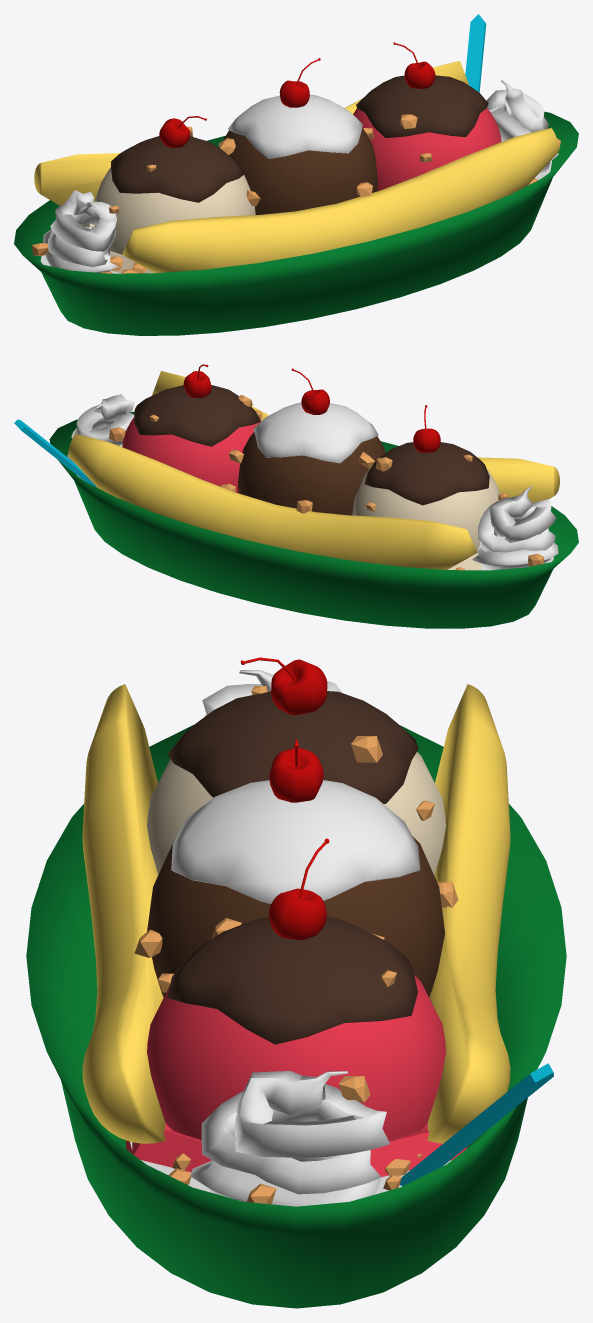
File: Banana Split.fbx
3 renders of one model, top to bottom at view 1: azimuth 30°, elevation 25°; view 2: azimuth 150°, elevation 25°; view 3: azimuth 270°, elevation 25°, orthographic. The views are drawn at different scales.
Visible parts, largest first — view 1: Bowl, Cylinder, Icosphere, Icosphere.006, Icosphere.004, Icosphere.005, Icosphere.002, Icosphere.001, Whipped Cream.001, Whipped Cream, Nut, spoon (+3 smaller); view 2: Bowl, Cylinder, Icosphere, Icosphere.004, Icosphere.006, Icosphere.005, Whipped Cream.001, Icosphere.001, Icosphere.002, Whipped Cream, Nut, spoon (+3 smaller); view 3: Bowl, Cylinder, Icosphere.001, Icosphere.004, Icosphere.005, Whipped Cream, Icosphere.006, Icosphere, Icosphere.002, Nut, Torus.001, spoon (+4 smaller).
Part boxes in pixels (box(x1,y1,x2,y2)): Bowl: box(14, 111, 578, 335); Cylinder: box(34, 61, 558, 273); Icosphere: box(223, 128, 377, 214); Icosphere.006: box(111, 136, 244, 202); Icosphere.004: box(227, 94, 362, 158); Icosphere.005: box(356, 75, 488, 138); Icosphere.002: box(94, 167, 255, 254); Icosphere.001: box(353, 108, 501, 190); Whipped Cream.001: box(43, 190, 118, 272); Whipped Cream: box(486, 80, 558, 173); Nut: box(32, 114, 560, 273); spoon: box(465, 14, 486, 92); Bowl: box(49, 411, 578, 628); Cylinder: box(68, 371, 559, 569); Icosphere: box(238, 432, 385, 515); Icosphere.004: box(253, 402, 378, 463); Icosphere.006: box(364, 442, 489, 505); Icosphere.005: box(134, 385, 260, 446); Whipped Cream.001: box(472, 486, 558, 570); Icosphere.001: box(122, 416, 261, 492); Icosphere.002: box(352, 465, 500, 550); Whipped Cream: box(67, 394, 134, 462); Nut: box(109, 395, 544, 570); spoon: box(14, 419, 97, 487); Bowl: box(26, 725, 566, 1308); Cylinder: box(82, 684, 510, 1143); Icosphere.001: box(147, 975, 445, 1140); Icosphere.004: box(171, 780, 420, 903); Icosphere.005: box(167, 916, 417, 1044); Whipped Cream: box(190, 1071, 390, 1206); Icosphere.006: box(167, 691, 418, 803); Icosphere: box(147, 837, 444, 997); Icosphere.002: box(147, 752, 445, 875); Nut: box(134, 686, 458, 1204); Torus.001: box(126, 1123, 466, 1176); spoon: box(399, 1063, 553, 1185).
Size of the model in its own units: 479 by 168 by 219.
